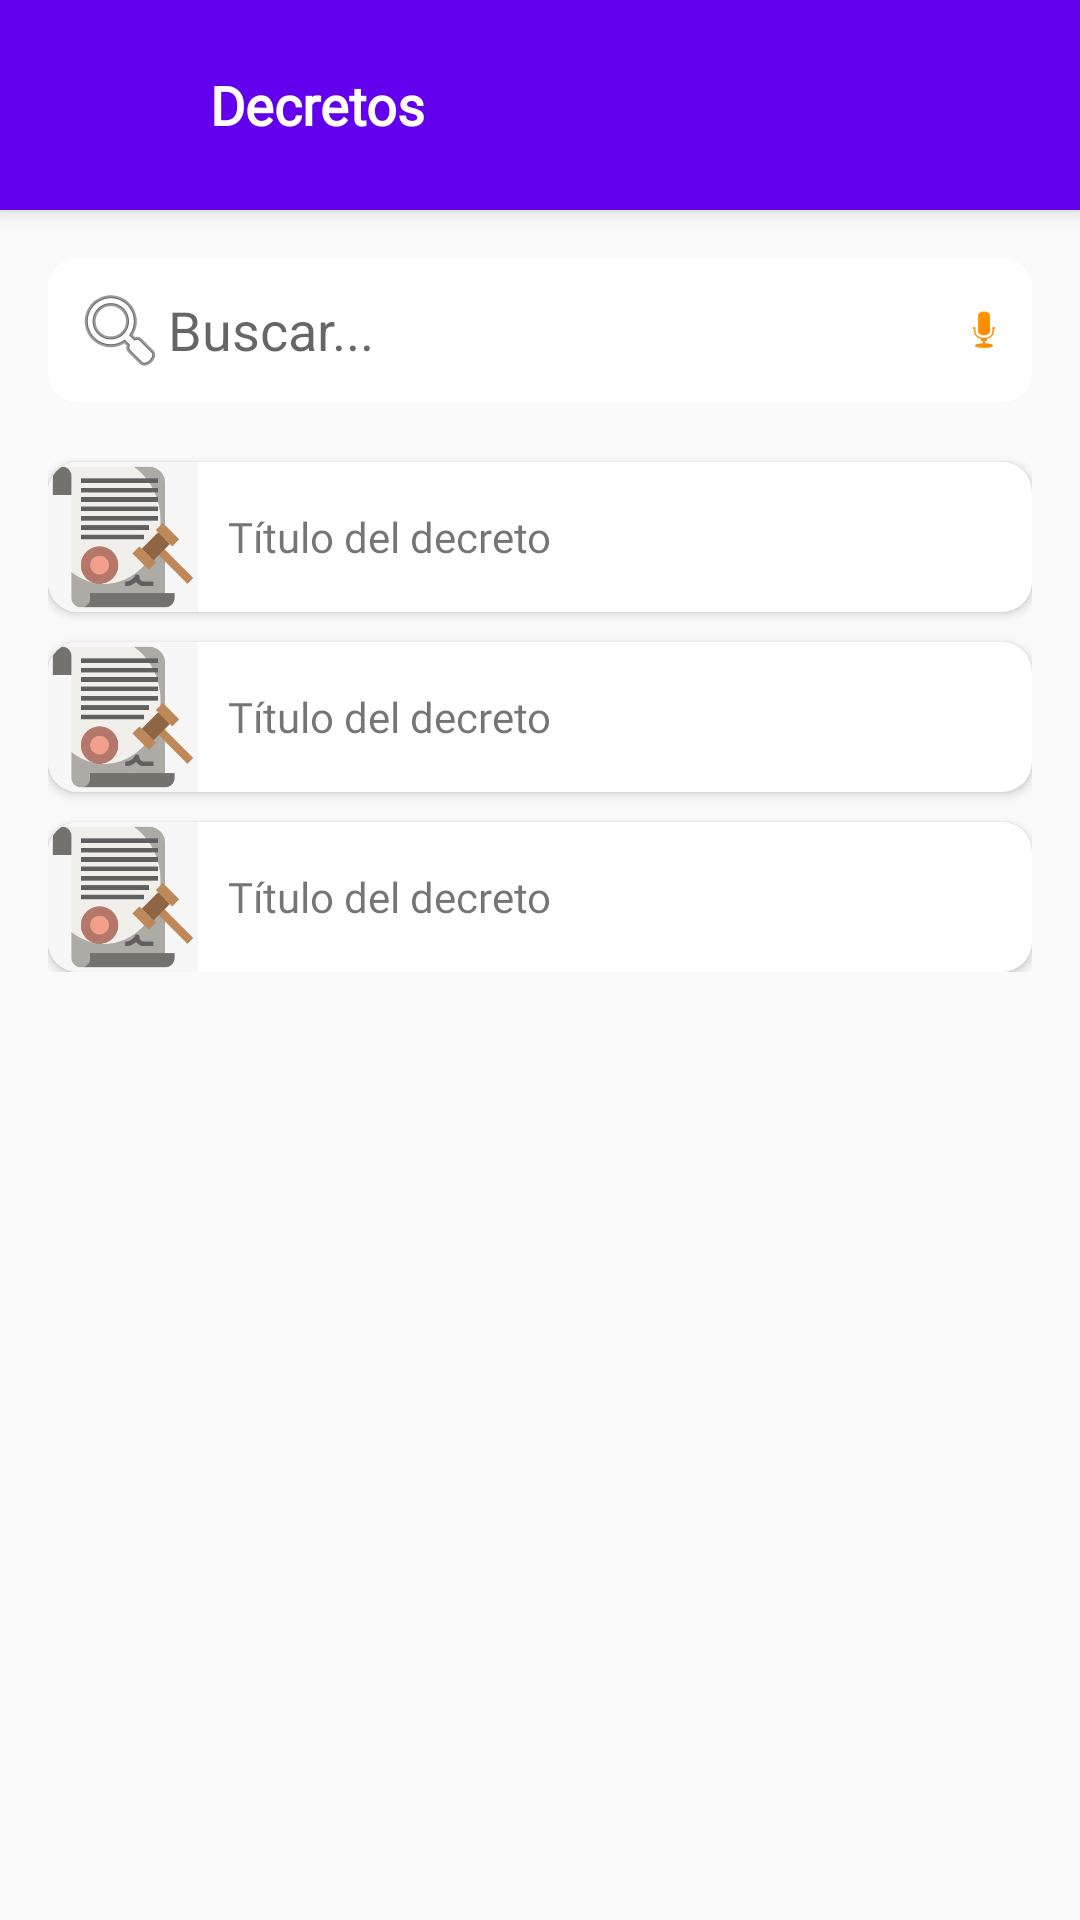

Icons on this 1080*1920 Android screen, each with its box as (x1, y1, x2, y2):
decretos: (48, 467, 193, 610), (52, 647, 193, 788), (48, 827, 193, 972)
